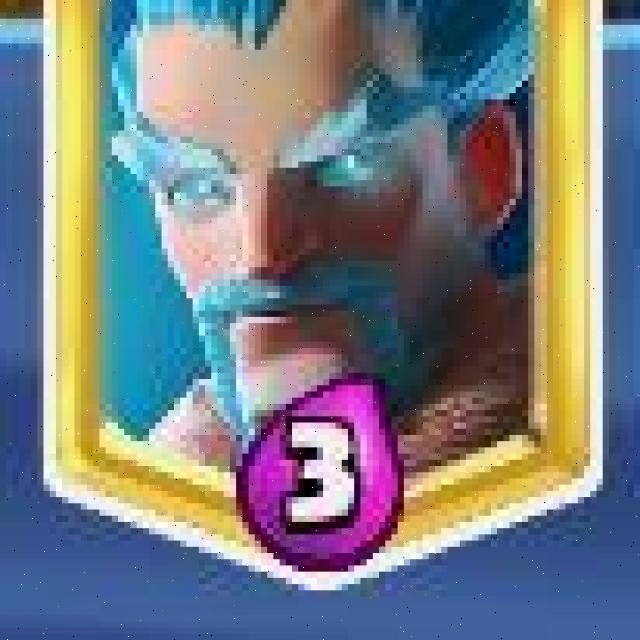Ice_Wizard: (40, 0, 599, 584)
